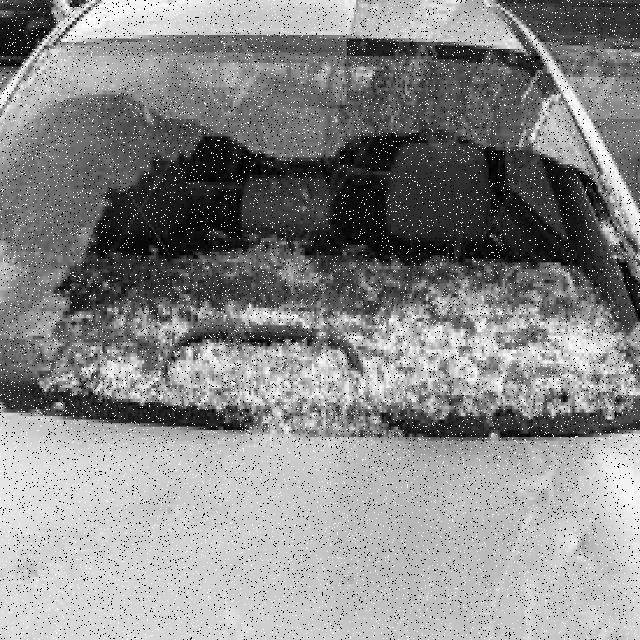Rear-windscreen-Damage: (1, 35, 638, 465)
